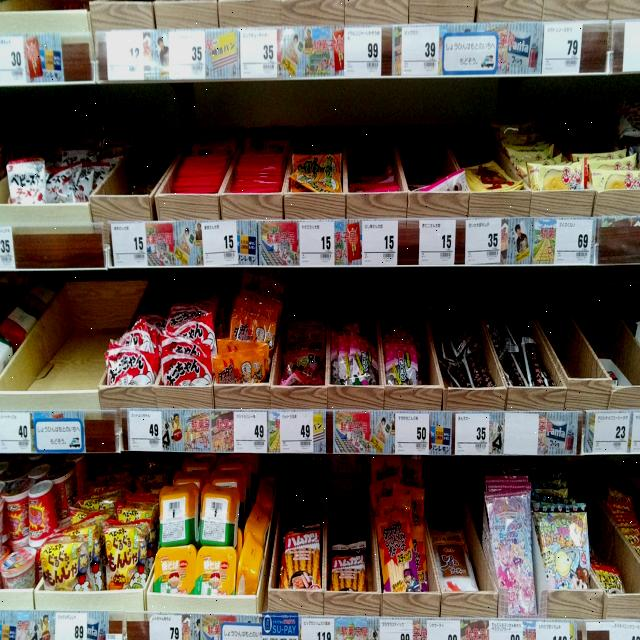objects: (240, 25, 279, 79), (540, 24, 582, 74), (344, 23, 382, 78), (401, 22, 439, 77), (167, 26, 205, 80), (106, 32, 146, 82), (110, 219, 148, 268), (202, 219, 240, 268), (554, 218, 592, 266), (465, 216, 501, 266), (418, 221, 456, 265), (299, 221, 335, 265), (362, 220, 398, 264), (279, 412, 314, 455), (455, 412, 490, 455), (595, 412, 629, 456), (128, 409, 164, 449), (396, 413, 430, 455), (232, 414, 270, 451), (0, 411, 31, 454), (0, 38, 26, 88), (150, 612, 182, 640), (302, 616, 336, 640), (378, 618, 414, 640), (56, 616, 86, 640), (487, 620, 523, 640), (534, 620, 570, 640), (0, 228, 16, 272), (428, 618, 460, 640)
